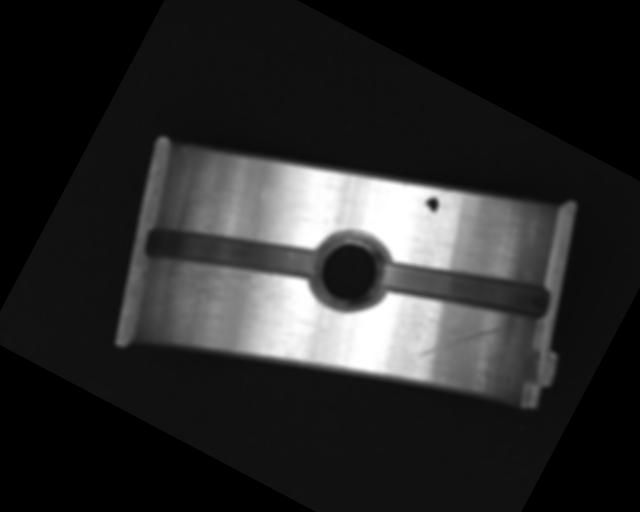blot: (420, 194, 442, 218)
gap: (140, 178, 324, 328), (376, 218, 556, 363)
hole: (299, 217, 402, 324)
nick: (417, 298, 504, 388)
scratch: (140, 224, 299, 361)
